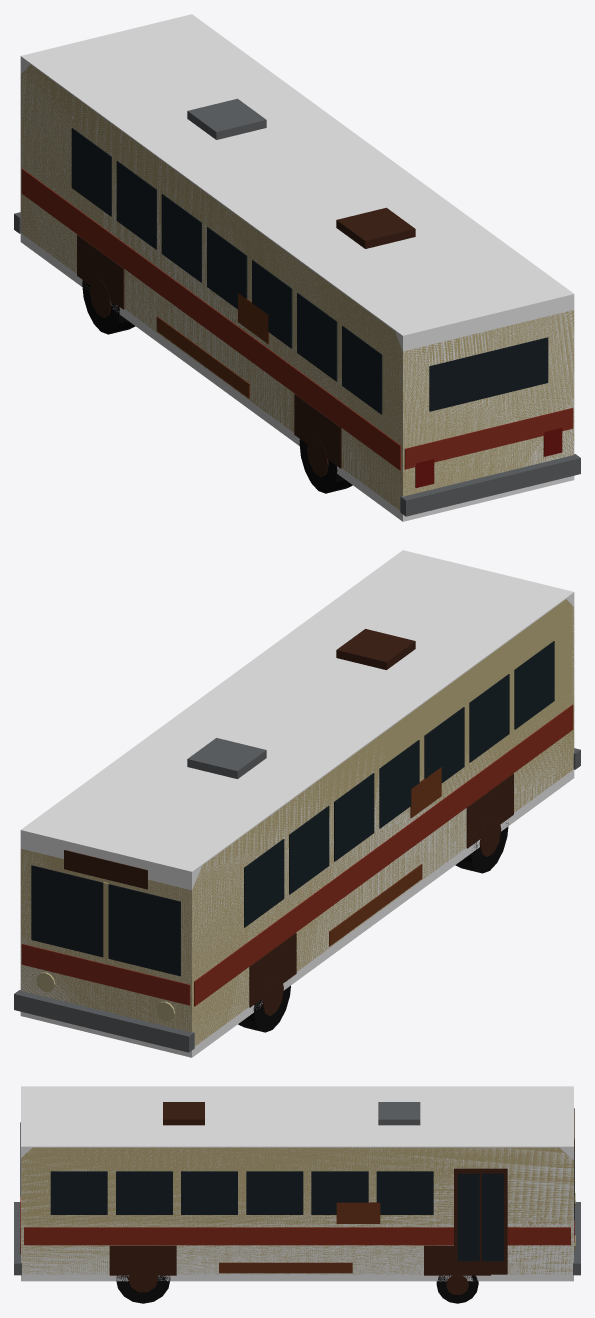
File: WreckedBus.fbx
3 views of the same model, one above another, from view 1: azimuth 30°, elevation 25°; view 2: azimuth 150°, elevation 25°; view 3: azimuth 270°, elevation 25° (orthographic). The views are drawn at different scales.
Visible parts, largest first — view 1: WreckedBus, COL_WreckedBus_Body; view 2: WreckedBus, COL_WreckedBus_Body; view 3: WreckedBus, COL_WreckedBus_Body.
Part boxes in pixels (box(x1,y1,x2,y2)): WreckedBus: box(14, 64, 580, 516); COL_WreckedBus_Body: box(20, 14, 574, 521); WreckedBus: box(14, 599, 580, 1052); COL_WreckedBus_Body: box(20, 550, 574, 1057); WreckedBus: box(14, 1102, 580, 1303); COL_WreckedBus_Body: box(21, 1086, 573, 1281).
Size of the model in its own units: 2.51 by 3.09 by 9.74.
